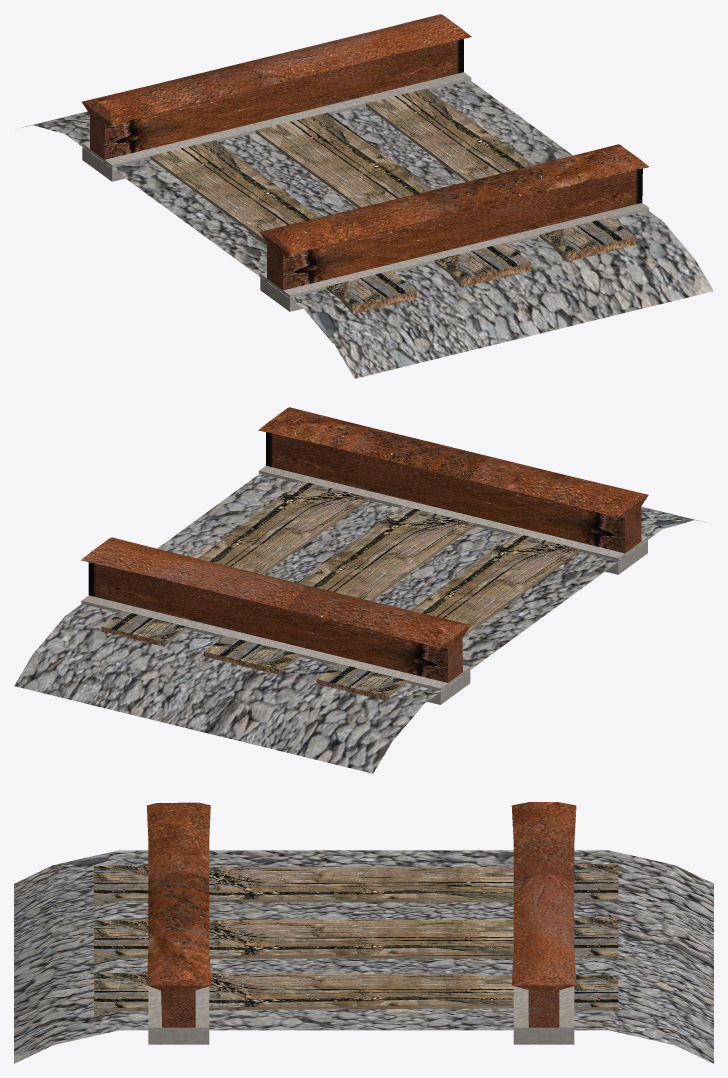
File: RailStraight.fbx
3 views of the same model, one above another, from view 1: azimuth 30°, elevation 25°; view 2: azimuth 150°, elevation 25°; view 3: azimuth 270°, elevation 25° (orthographic). The views are drawn at different scales.
Parts seen in each view (by area): view 1: RailStraightTex__2_, GravelGround__2_; view 2: RailStraightTex__2_, GravelGround__2_; view 3: RailStraightTex__2_, GravelGround__2_.
Part boxes in pixels (left/top/right/bottom): RailStraightTex__2_: left=82, top=14, right=649, bottom=313; GravelGround__2_: left=22, top=80, right=713, bottom=378; RailStraightTex__2_: left=81, top=407, right=648, bottom=704; GravelGround__2_: left=14, top=473, right=704, bottom=773; RailStraightTex__2_: left=94, top=802, right=618, bottom=1044; GravelGround__2_: left=14, top=850, right=713, bottom=1063.
Size of the model in its own units: 100 by 22.45 by 164.
